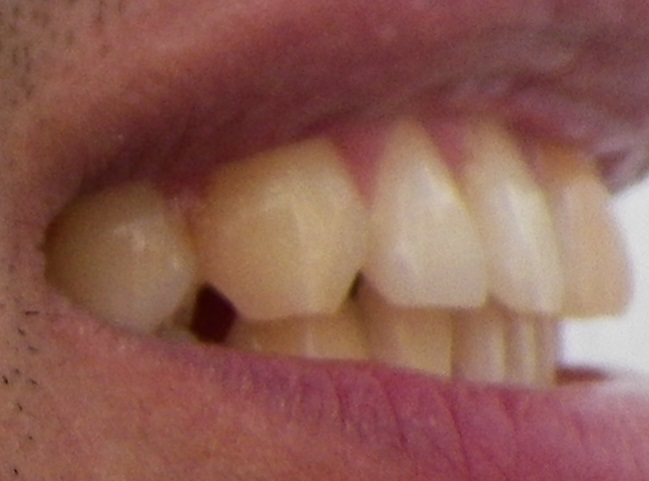boca: (26, 138, 634, 381)
